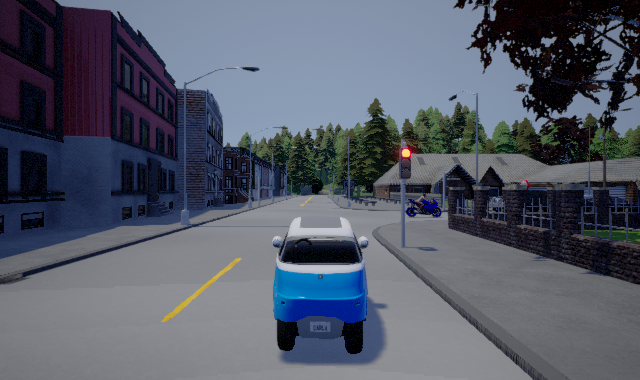motobike: (406, 198, 442, 217)
traffic_light: (399, 142, 411, 185)
vehicle: (272, 216, 369, 354)
